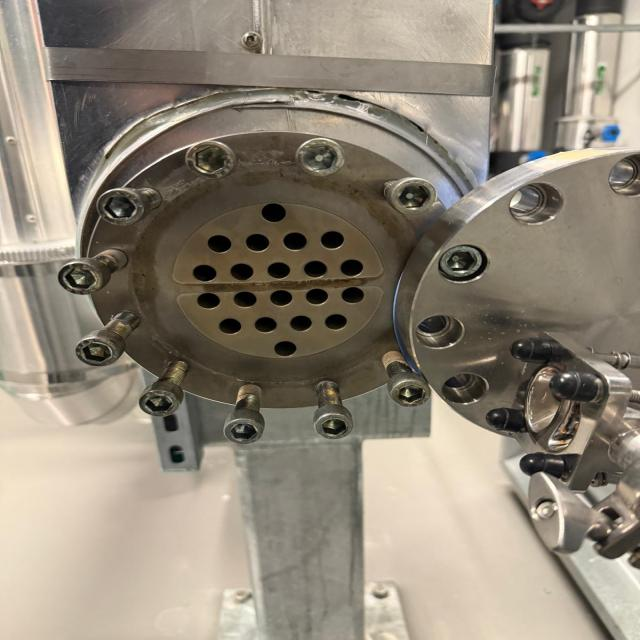Hole: (252, 193, 290, 224), (176, 288, 222, 312), (336, 253, 374, 280), (202, 229, 235, 254), (207, 314, 244, 336), (317, 224, 348, 250), (338, 286, 380, 304), (300, 256, 331, 280), (269, 336, 301, 359), (186, 260, 219, 282), (280, 228, 310, 252), (322, 310, 354, 332), (227, 258, 256, 282), (265, 256, 294, 280), (242, 230, 272, 252), (229, 288, 261, 308), (252, 312, 279, 334), (286, 312, 316, 331), (302, 288, 332, 306), (268, 288, 295, 308)
